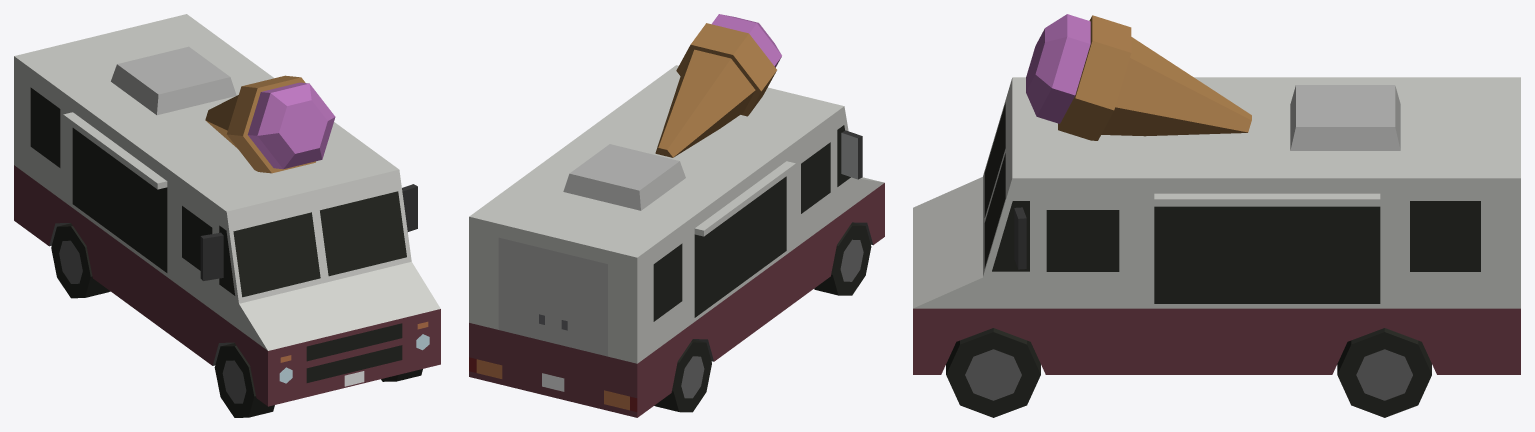
The model's file is Veh_IceCream_Van.obj.
The picture shows the model from 3 angles, left to right: view 1: azimuth 30°, elevation 25°; view 2: azimuth 150°, elevation 25°; view 3: azimuth 270°, elevation 25°; orthographic projection. The views are drawn at different scales.
Bounding box in the file's own units: 1.43 × 1.82 × 2.92.
